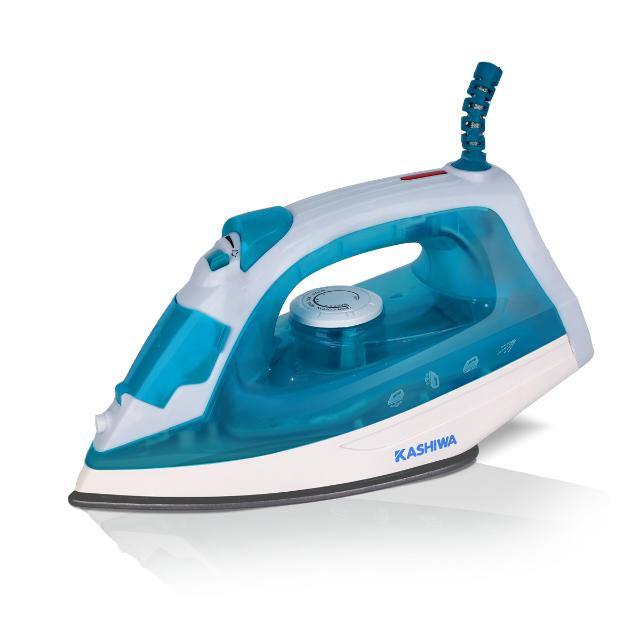Clothes-Iron: (59, 144, 606, 520)
